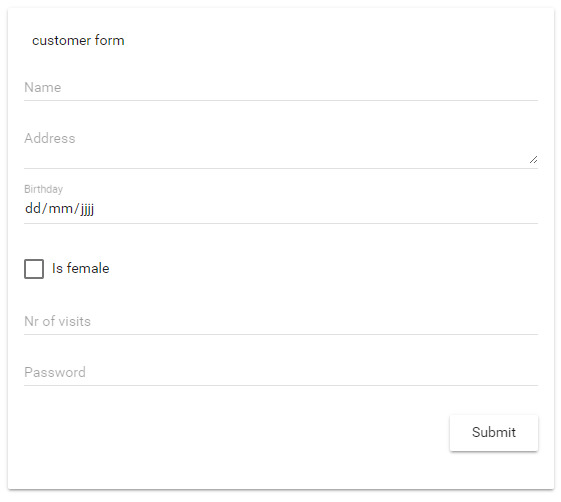_form_: (11, 73, 549, 463)
button: (447, 414, 542, 455)
checkbox: (23, 257, 46, 281)
checkbox_with_label: (20, 255, 111, 282)
field_line: (20, 130, 539, 170), (20, 197, 538, 227), (19, 312, 539, 338), (22, 79, 542, 104), (22, 363, 542, 388)
field_line_with_label: (20, 184, 540, 229)
